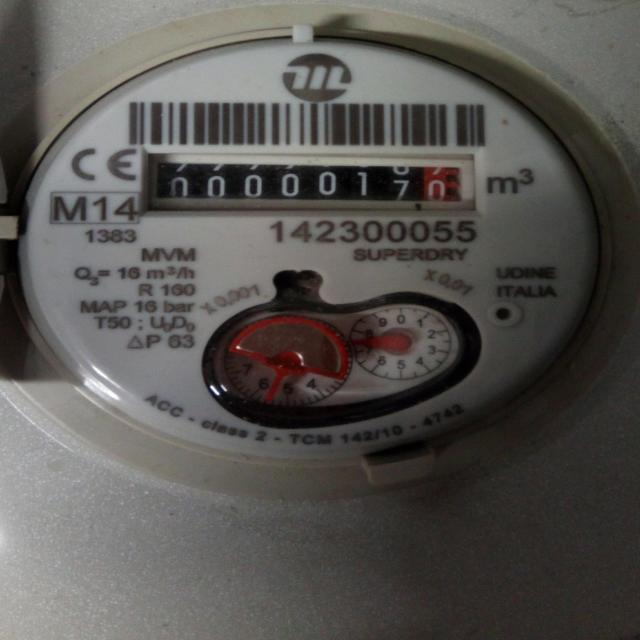gaz_meter: (32, 35, 590, 471)
indication: (142, 156, 476, 219)
